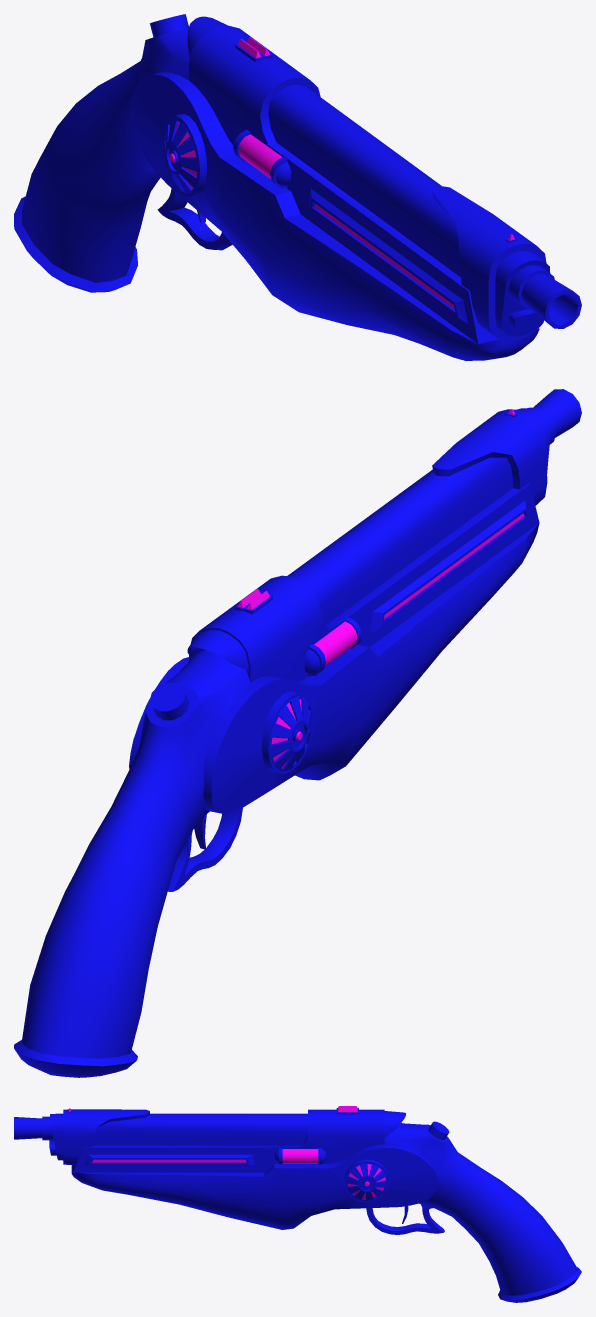
Rendered from LaserPistol_Model.FBX.
The picture shows the model from 3 angles, top to bottom: view 1: azimuth 30°, elevation 25°; view 2: azimuth 150°, elevation 25°; view 3: azimuth 270°, elevation 25°; orthographic projection. The views are drawn at different scales.
Parts seen in each view (by area): view 1: GunBody; view 2: GunBody; view 3: GunBody.
Boxes of the visible parts, x1,y1,x2,y2 form: GunBody: [14, 14, 581, 360]; GunBody: [14, 389, 581, 1077]; GunBody: [14, 1106, 581, 1302].
Size of the model in its own units: 44.84 by 117 by 316.
